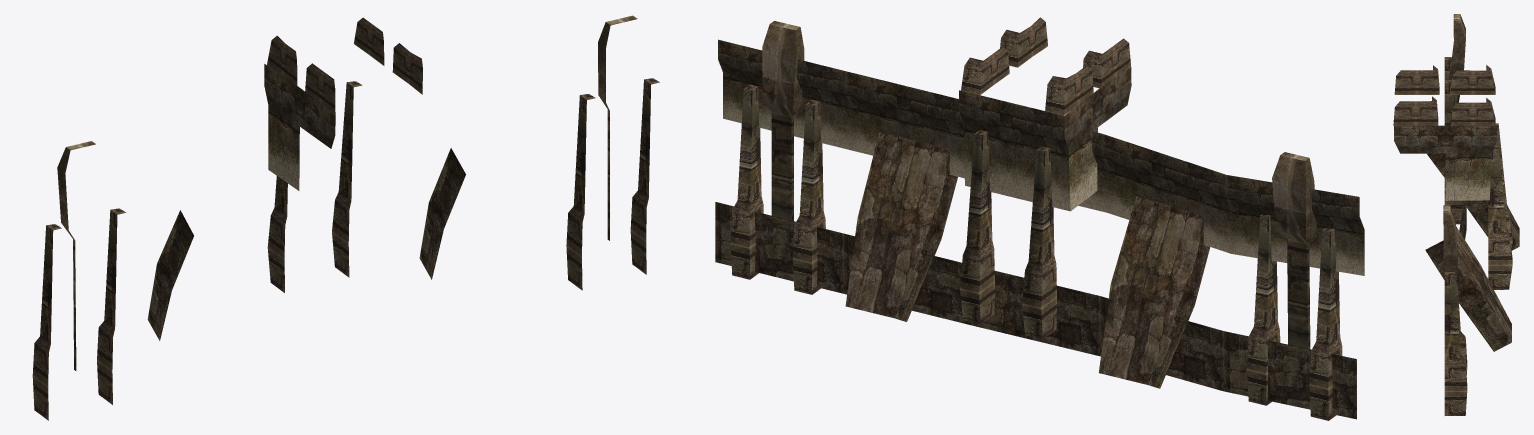
File: OZ_09_wv_T04wall01G.glb
3 views of the same model, side by side, from view 1: azimuth 30°, elevation 25°; view 2: azimuth 150°, elevation 25°; view 3: azimuth 270°, elevation 25° (orthographic). The views are drawn at different scales.
Parts seen in each view (by area): view 1: OM_09_wv_T04wall01G; view 2: OM_09_wv_T04wall01G; view 3: OM_09_wv_T04wall01G.
Part boxes in pixels (left/top/right/bottom): OM_09_wv_T04wall01G: left=32, top=15, right=659, bottom=420; OM_09_wv_T04wall01G: left=715, top=17, right=1364, bottom=420; OM_09_wv_T04wall01G: left=1393, top=14, right=1519, bottom=415.
Size of the model in its own units: 36.56 by 15.9 by 8.18.
3 materials, 3 textured.
